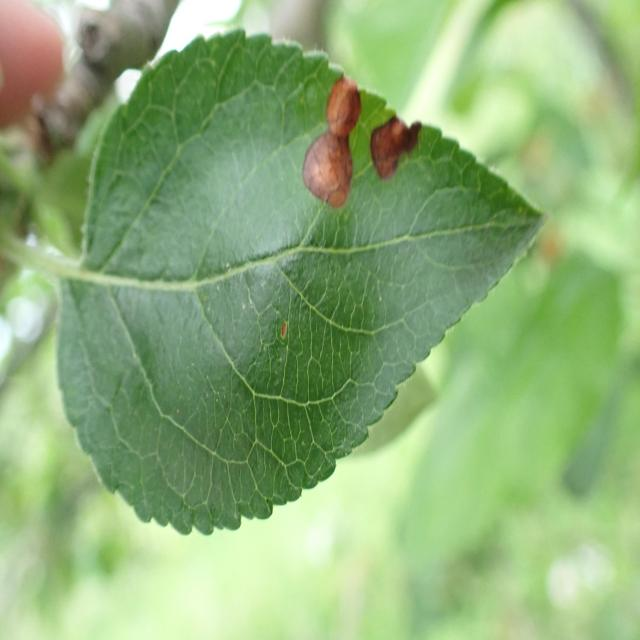Black Rot: (300, 66, 364, 216), (370, 98, 425, 197)
